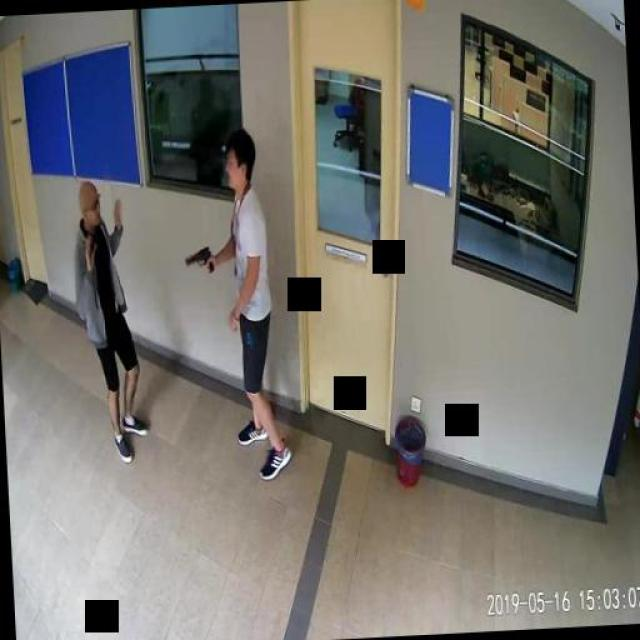gun: (184, 245, 212, 275)
